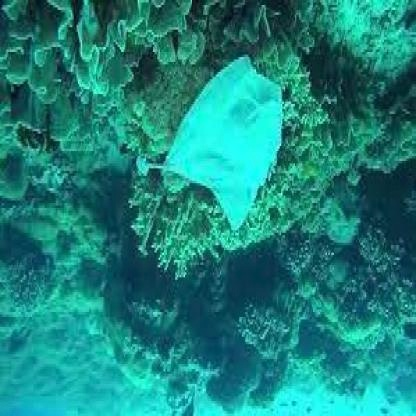pbag: (135, 54, 284, 235)
